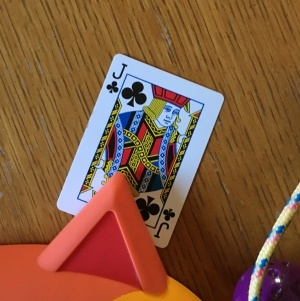card: (56, 52, 226, 249)
